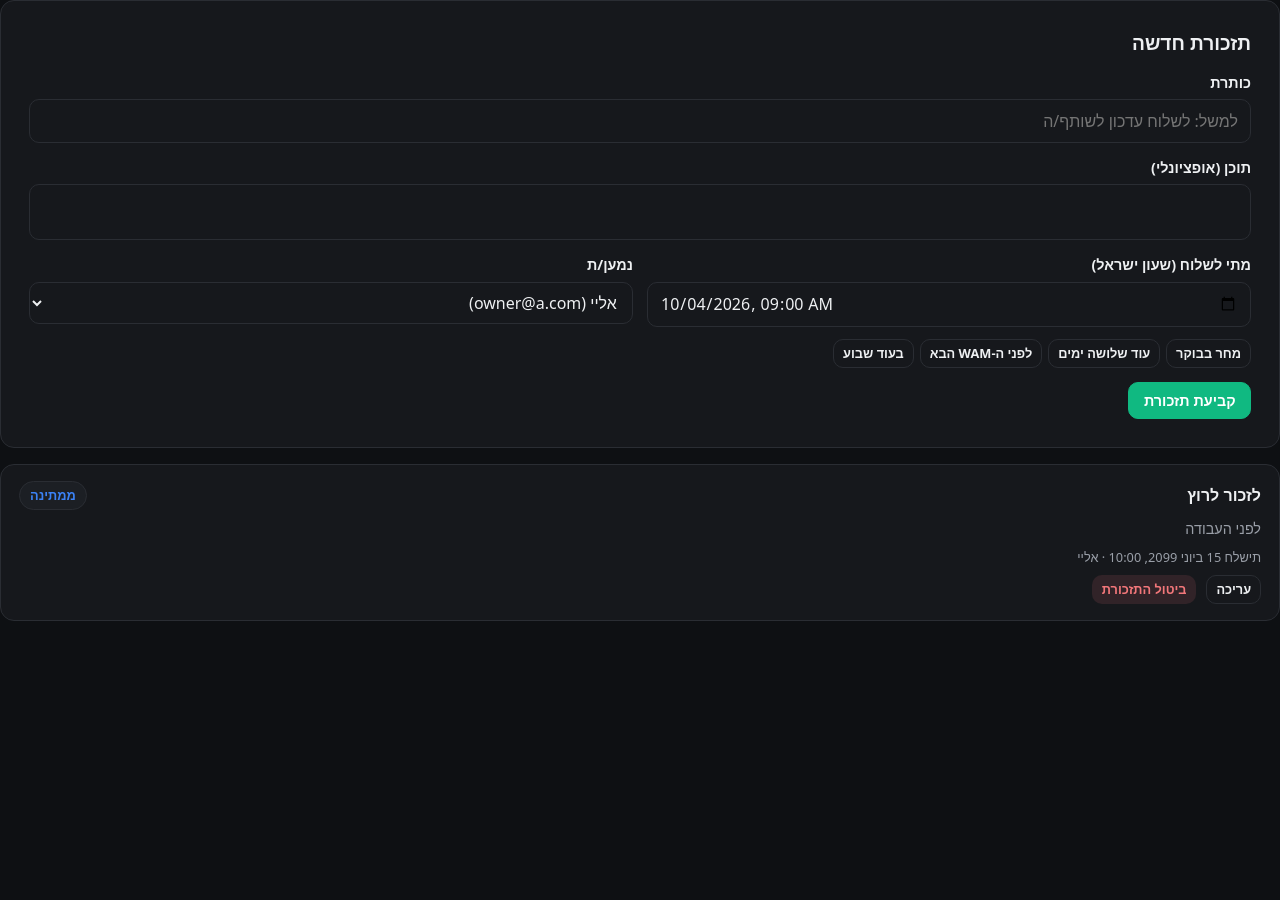
Test: RemindersPage › editing a still-pending reminder whose schedule is still in the future keeps the original time and shows no "expired" notice
The width and height of the screenshot is (1280, 900).
Expected: the heading "לזכור לרוץ" is shown, [1187,483,1261,507]
Click the button "עריכה" at (1234, 589), box [1206,575,1261,604]
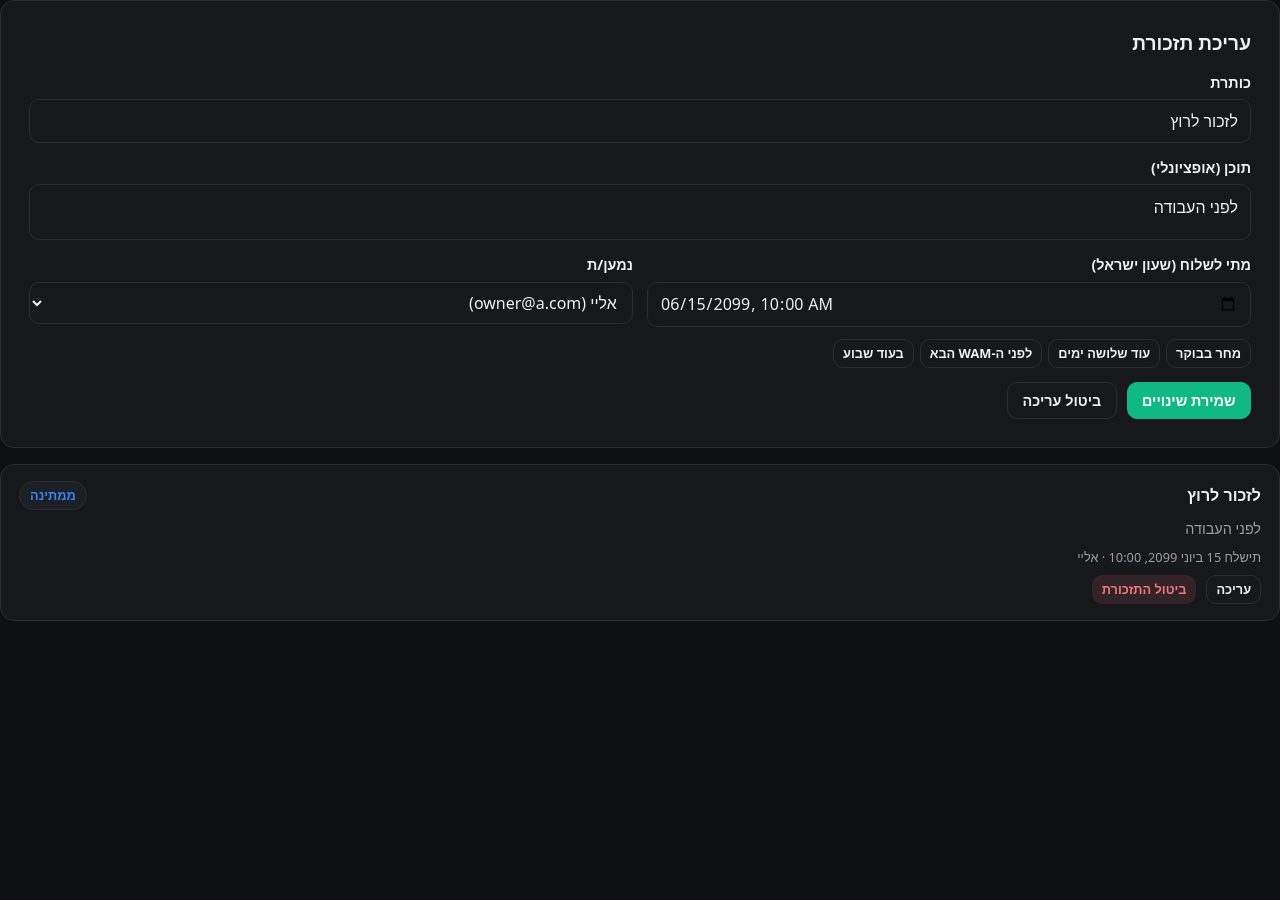
Result: the field labelled "מתי לשלוח (שעון ישראל)" holds "2099-06-15T10:00" at [647,282,1251,327]
